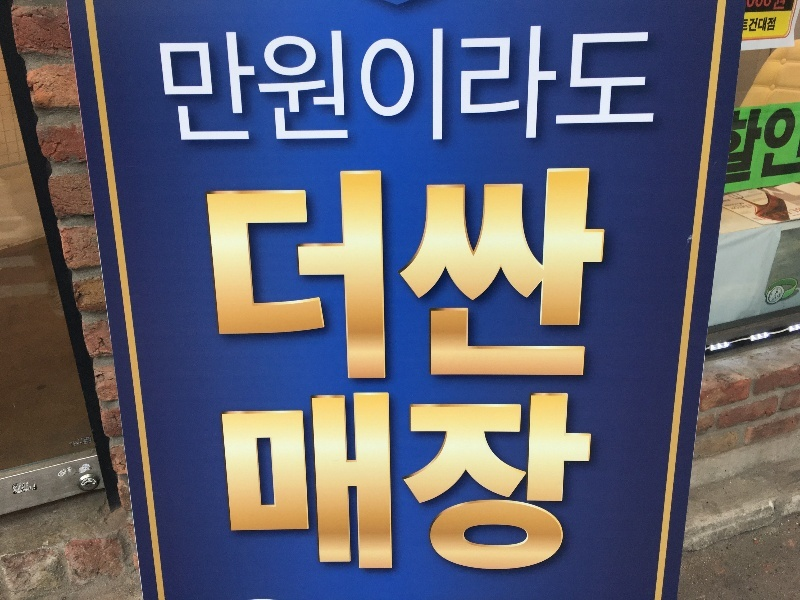text: (209, 165, 224, 382), (225, 165, 240, 382), (241, 165, 256, 382), (257, 165, 272, 382), (273, 165, 288, 382), (289, 165, 304, 382), (305, 165, 320, 382), (321, 165, 336, 382), (337, 165, 352, 382), (353, 165, 368, 382), (369, 165, 384, 382), (385, 165, 400, 382), (401, 165, 416, 382), (417, 165, 432, 382), (433, 165, 448, 382), (449, 165, 464, 382), (465, 165, 480, 382), (481, 165, 496, 382), (497, 165, 512, 382), (513, 165, 528, 382), (529, 165, 544, 382), (545, 165, 560, 382), (561, 165, 576, 382), (577, 165, 592, 382), (593, 165, 608, 382), (225, 388, 240, 576), (241, 388, 256, 576), (257, 388, 272, 576), (273, 388, 288, 576), (289, 388, 304, 576), (305, 388, 320, 576), (321, 388, 336, 576), (337, 388, 352, 576), (353, 388, 368, 576), (369, 388, 384, 576), (385, 388, 400, 576), (401, 388, 416, 576), (417, 388, 432, 576), (433, 388, 448, 576), (449, 388, 464, 576), (465, 388, 480, 576), (481, 388, 496, 576), (497, 388, 512, 576), (513, 388, 528, 576), (529, 388, 544, 576), (545, 388, 560, 576), (561, 388, 576, 576), (577, 388, 592, 576), (641, 23, 657, 153), (161, 23, 176, 153), (177, 23, 192, 153), (193, 23, 208, 153), (209, 23, 224, 153), (225, 23, 240, 153), (241, 23, 256, 153), (257, 23, 272, 153), (273, 23, 288, 153), (289, 23, 304, 153), (305, 23, 320, 153), (321, 23, 336, 153), (337, 23, 352, 153), (353, 23, 368, 153), (369, 23, 384, 153), (385, 23, 400, 153), (401, 23, 416, 153), (417, 23, 432, 153), (433, 23, 448, 153), (449, 23, 464, 153), (465, 23, 480, 153), (481, 23, 496, 153), (497, 23, 512, 153), (513, 23, 528, 153), (529, 23, 544, 153), (545, 23, 560, 153), (561, 23, 576, 153), (577, 23, 592, 153), (593, 23, 608, 153), (609, 23, 624, 153), (625, 23, 640, 153), (150, 23, 160, 153), (737, 104, 752, 185), (753, 104, 768, 185), (769, 104, 784, 185), (785, 104, 800, 185), (218, 388, 224, 576), (203, 165, 208, 382), (593, 388, 597, 576), (733, 104, 736, 185), (753, 17, 768, 33), (609, 165, 610, 382), (753, 1, 768, 11), (769, 1, 784, 11), (769, 17, 777, 33), (82, 477, 96, 485), (744, 18, 752, 31), (747, 1, 752, 11), (750, 17, 752, 33), (785, 1, 786, 11)
